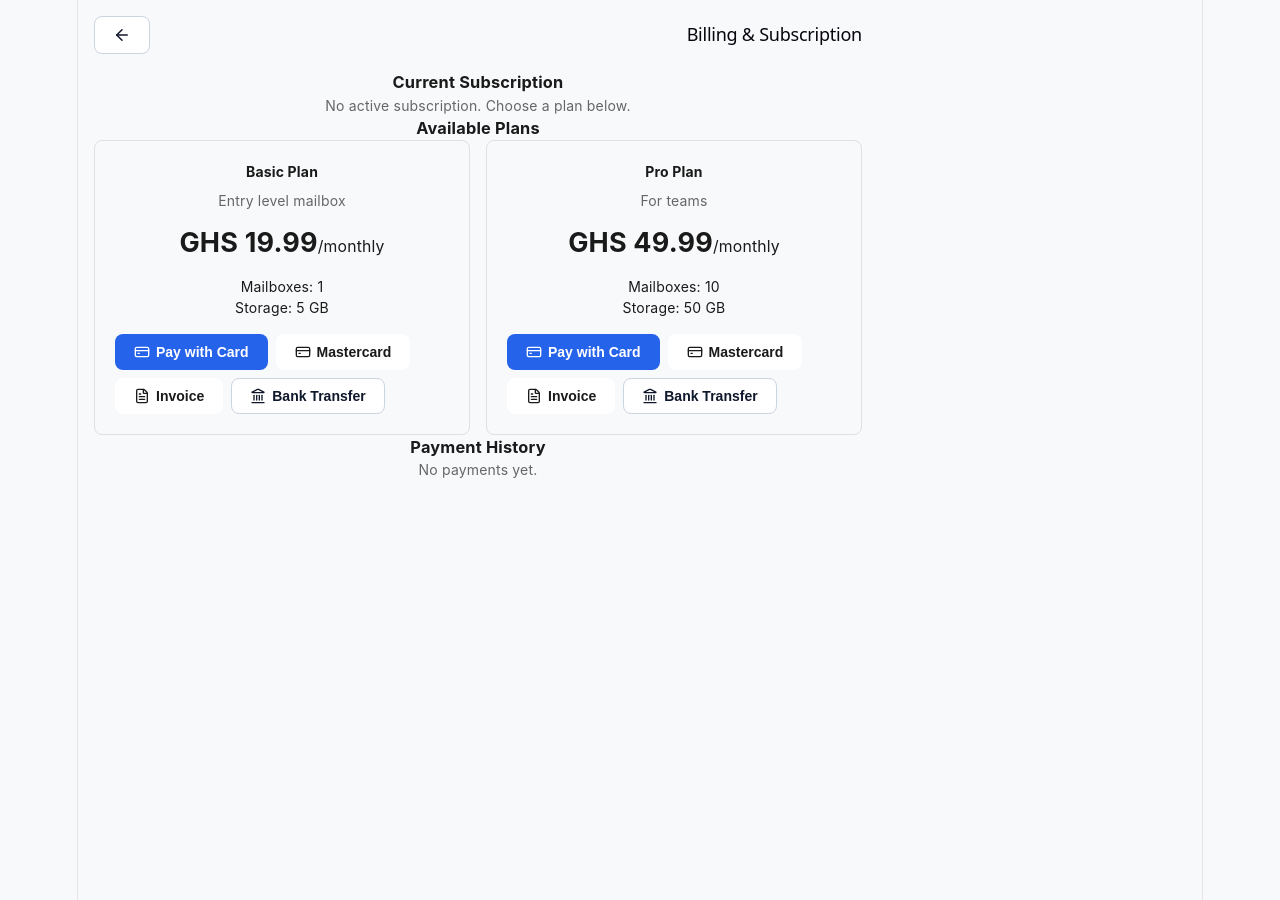
Test: BillingManager › shows inline instructions for bank transfer (no redirect)
What coordinates should you click on to do the following:
click the button with test id "pay-bank-plan-1"
I would click on:
 (308, 396)
Its box is [231,378,385,414].
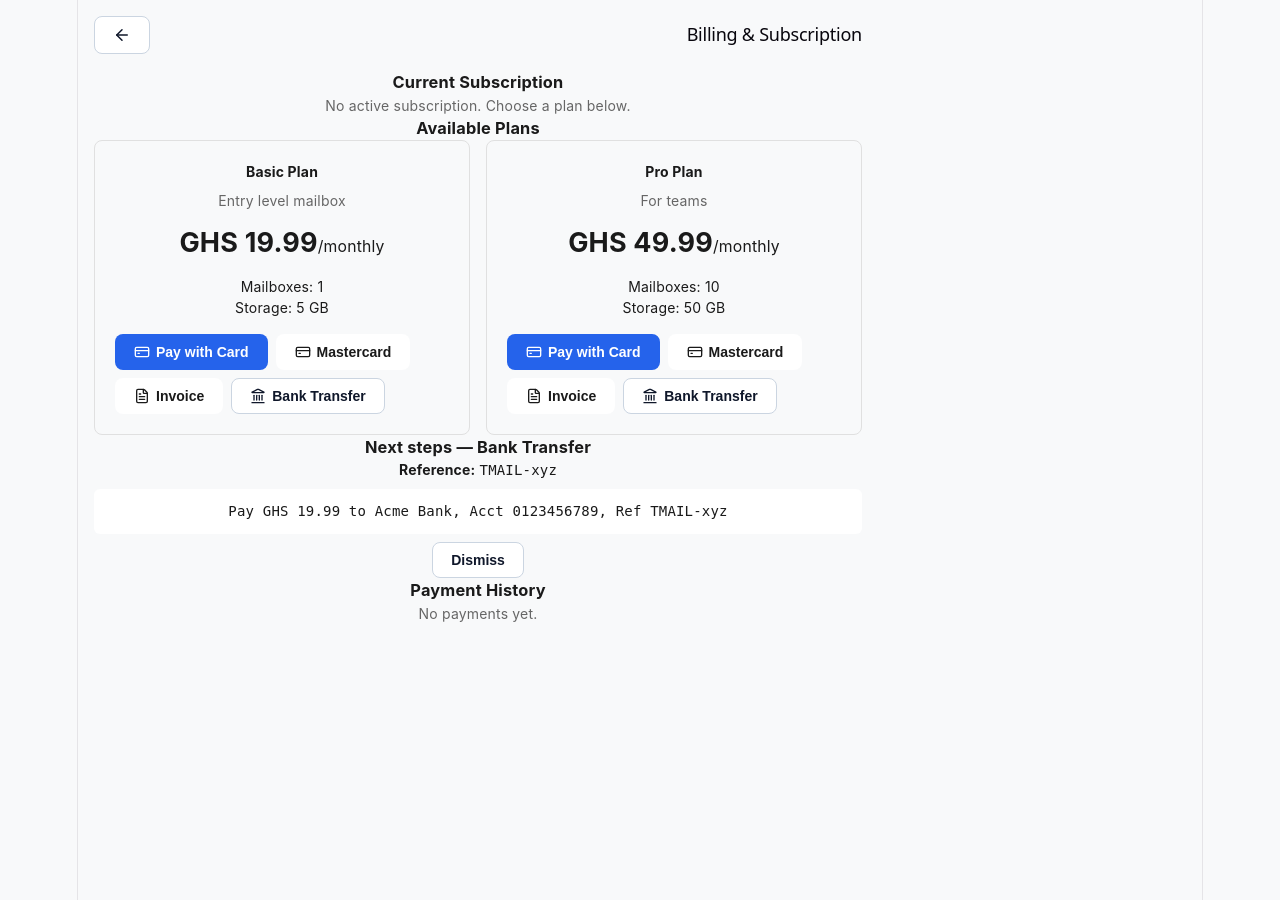
Check: the element with test id "payment-instructions" is shown, box [94,435,862,578]
Check: the text with test id "payment-instructions-detail" shows "Acme Bank", box [228,503,728,519]
Check: the text with test id "payment-instructions-detail" shows "TMAIL-xyz", box [228,503,728,519]
